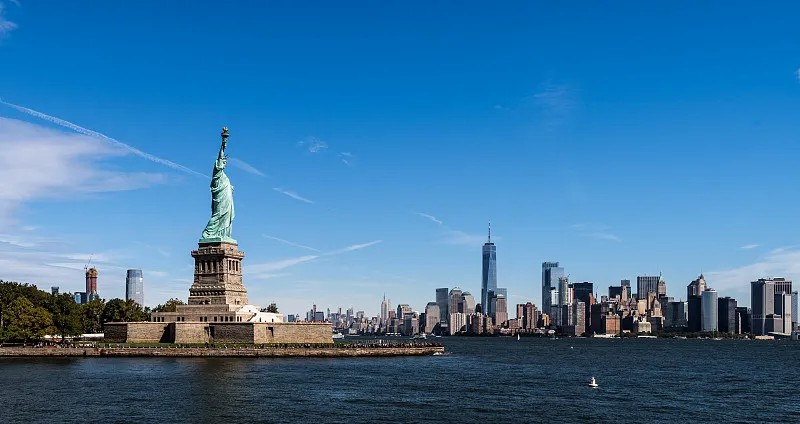SL: (188, 127, 248, 305)
